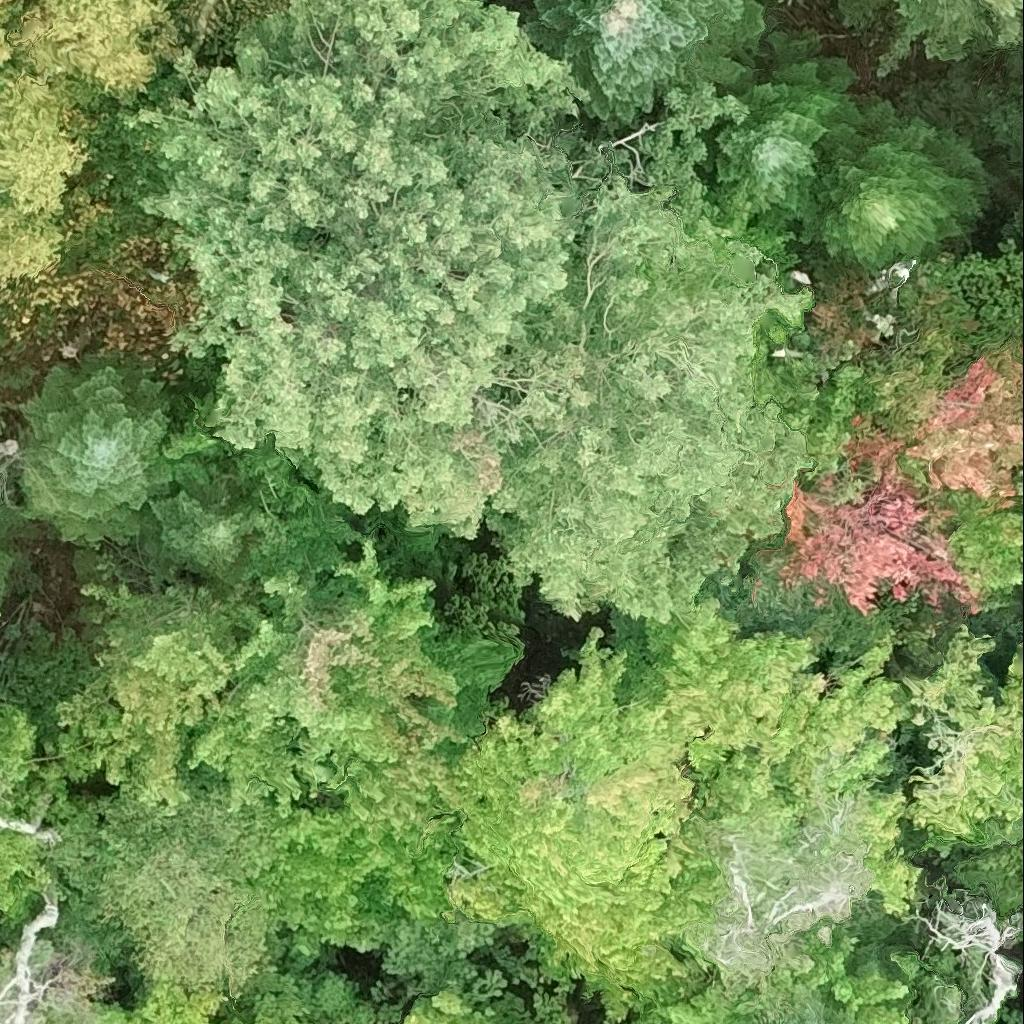crown: (318, 91, 880, 622), (121, 0, 620, 488), (442, 630, 731, 1023), (187, 531, 521, 847), (644, 589, 920, 932), (769, 331, 1023, 615), (41, 789, 273, 1016), (51, 581, 238, 812), (675, 797, 877, 1000), (793, 98, 993, 281), (247, 806, 462, 953), (524, 0, 770, 125), (712, 30, 864, 222), (21, 366, 178, 544), (637, 927, 923, 1023), (318, 923, 588, 1023), (909, 634, 1023, 858), (0, 64, 97, 290), (5, 0, 180, 121), (0, 693, 81, 911), (925, 886, 1023, 1023), (881, 0, 1023, 76), (144, 486, 255, 581), (0, 900, 82, 1023), (175, 0, 276, 59), (93, 987, 223, 1023), (223, 989, 308, 1023), (982, 96, 1023, 158), (0, 0, 32, 66), (0, 545, 16, 621), (1010, 456, 1023, 512), (0, 818, 41, 832), (1012, 196, 1023, 241)
